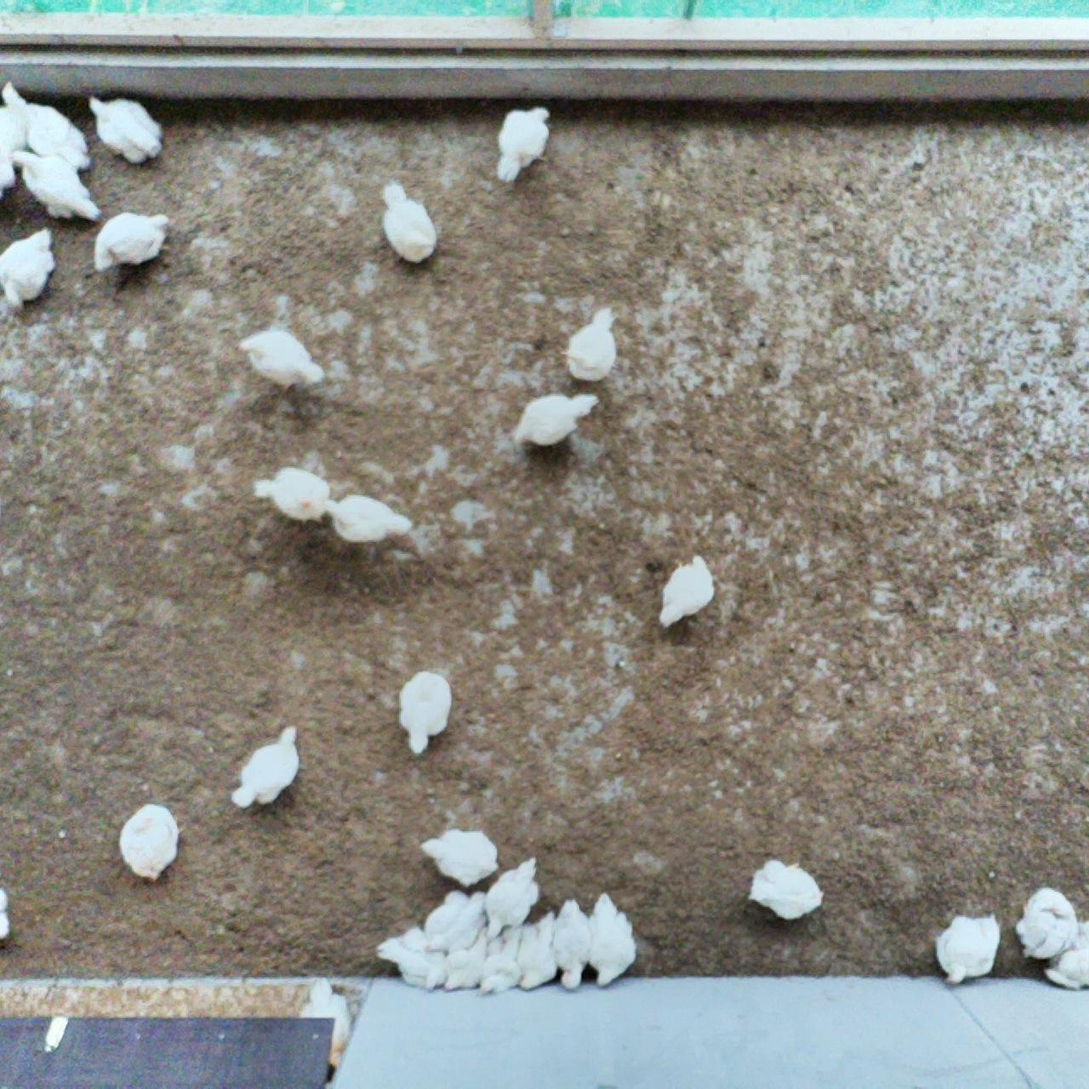chicken: (1, 82, 96, 171), (11, 146, 101, 220), (231, 726, 302, 809), (233, 330, 328, 392), (88, 95, 167, 164), (250, 463, 333, 525), (322, 492, 417, 546), (512, 391, 604, 445), (587, 892, 639, 987), (94, 211, 171, 275), (118, 802, 179, 882), (0, 228, 57, 313), (377, 926, 452, 988), (399, 669, 452, 754), (383, 184, 439, 264), (424, 885, 489, 953), (937, 914, 1001, 983), (489, 858, 543, 939), (752, 859, 826, 918), (560, 308, 617, 383), (1018, 887, 1078, 957), (473, 926, 532, 996), (657, 555, 714, 627), (549, 898, 593, 991), (512, 913, 565, 990), (496, 107, 548, 183), (420, 827, 495, 877), (439, 926, 496, 991), (1045, 912, 1089, 989), (0, 105, 28, 201)
